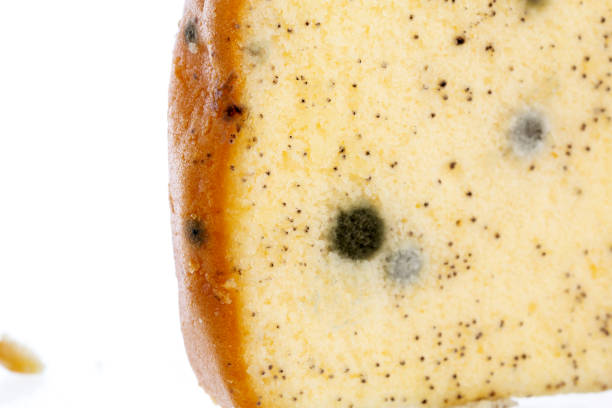mold_bread: (316, 192, 388, 265), (502, 105, 549, 161), (385, 244, 426, 290), (178, 213, 212, 251), (218, 97, 249, 126), (179, 18, 204, 50), (452, 30, 470, 49)
